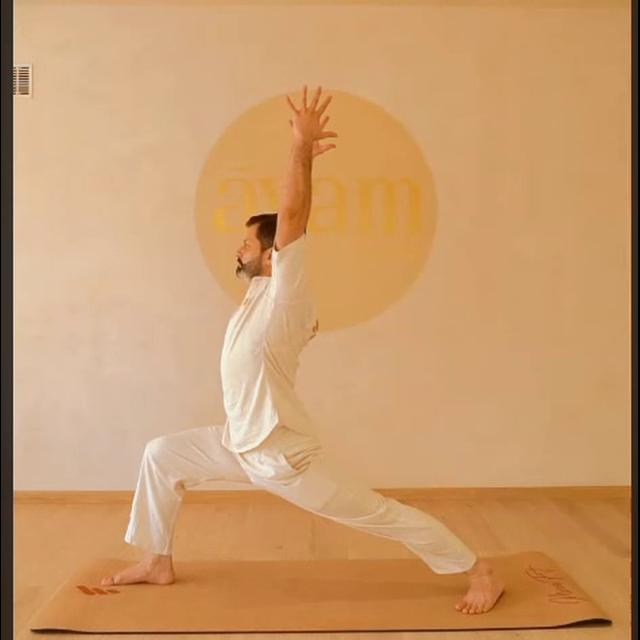Warrior_I: (83, 72, 515, 621)
